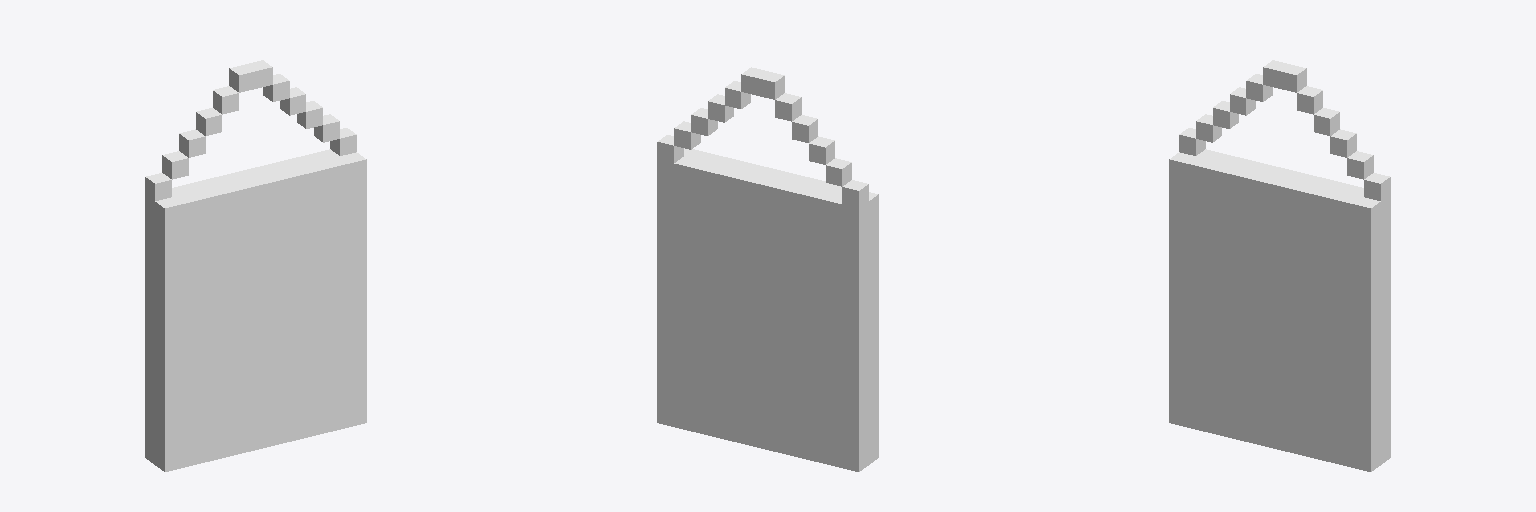
The model's file is PictureOfTree.obj.
3 views of the same model, side by side, from view 1: azimuth 30°, elevation 25°; view 2: azimuth 150°, elevation 25°; view 3: azimuth 330°, elevation 25° (orthographic).
Size of the model in its own units: 12 by 21 by 2.